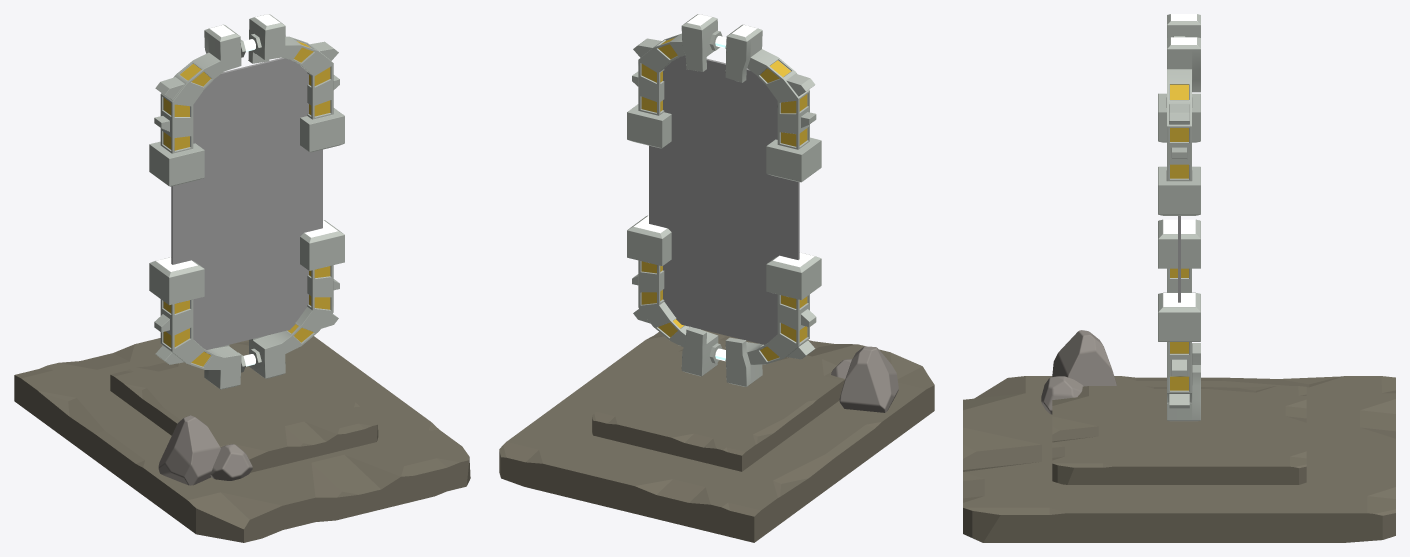
File: Artefak Video & Motion Graphics [Potrait].fbx
The picture shows the model from 3 angles, left to right: view 1: azimuth 30°, elevation 25°; view 2: azimuth 150°, elevation 25°; view 3: azimuth 270°, elevation 25°; orthographic projection. The views are drawn at different scales.
Visible parts, largest first — view 1: Potrait_Stone 3; view 2: Potrait_Stone 3; view 3: Potrait_Stone 3.
Boxes of the visible parts, left/top/right/bottom form: Potrait_Stone 3: left=14, top=14, right=470, bottom=542; Potrait_Stone 3: left=499, top=14, right=934, bottom=542; Potrait_Stone 3: left=963, top=14, right=1395, bottom=542.
Bounding box in the file's own units: 1801 × 2725 × 2402.
